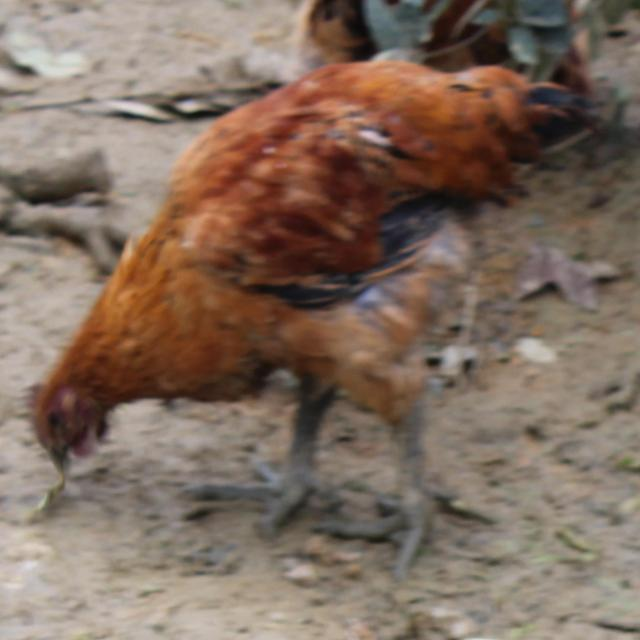hen: (4, 0, 596, 624)
